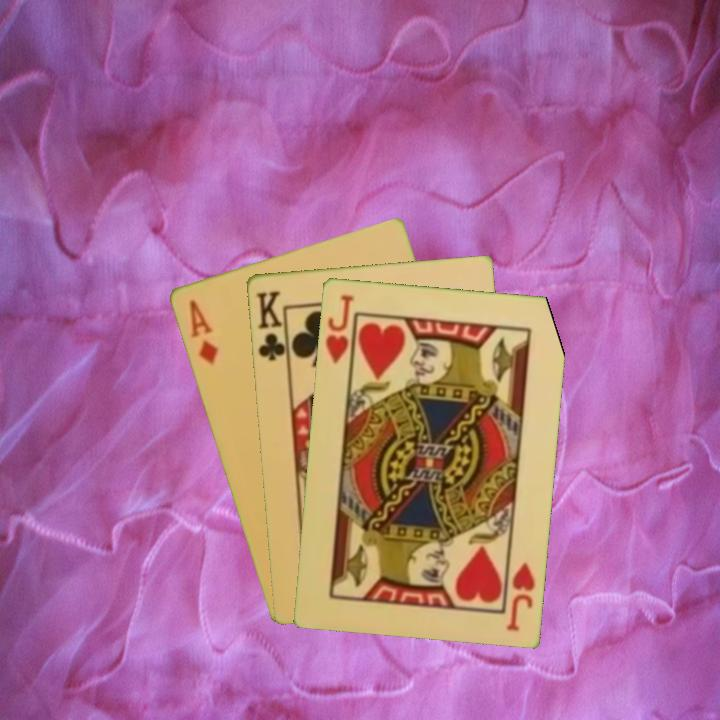Ad: (185, 295, 221, 367)
Jh: (321, 290, 358, 373), (503, 557, 538, 633)
Kc: (252, 287, 290, 365)
